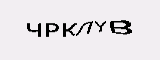Ж: (102, 29, 142, 57)
И: (39, 21, 56, 49)
С: (26, 20, 39, 46)
Ш: (70, 22, 103, 57)
Э: (56, 19, 72, 52)
